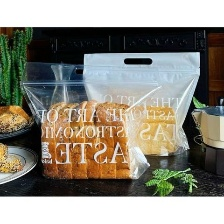snack: (14, 55, 171, 184), (78, 45, 208, 160)
